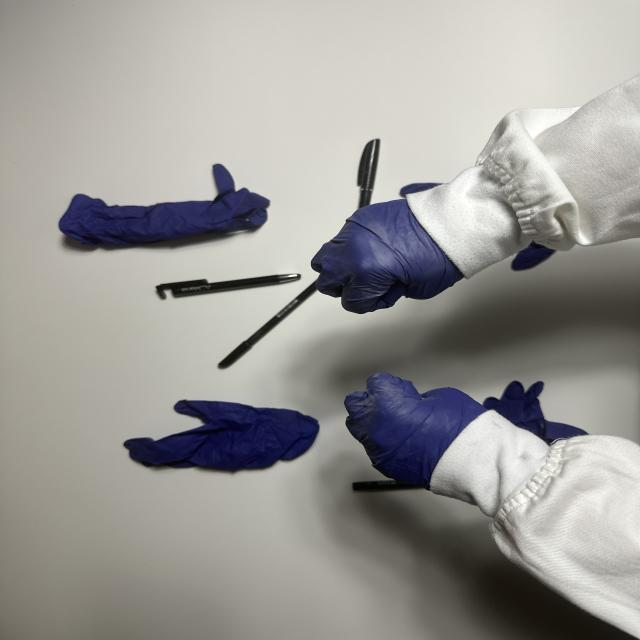gloves_contaminated: (312, 200, 463, 314), (345, 373, 486, 489)
